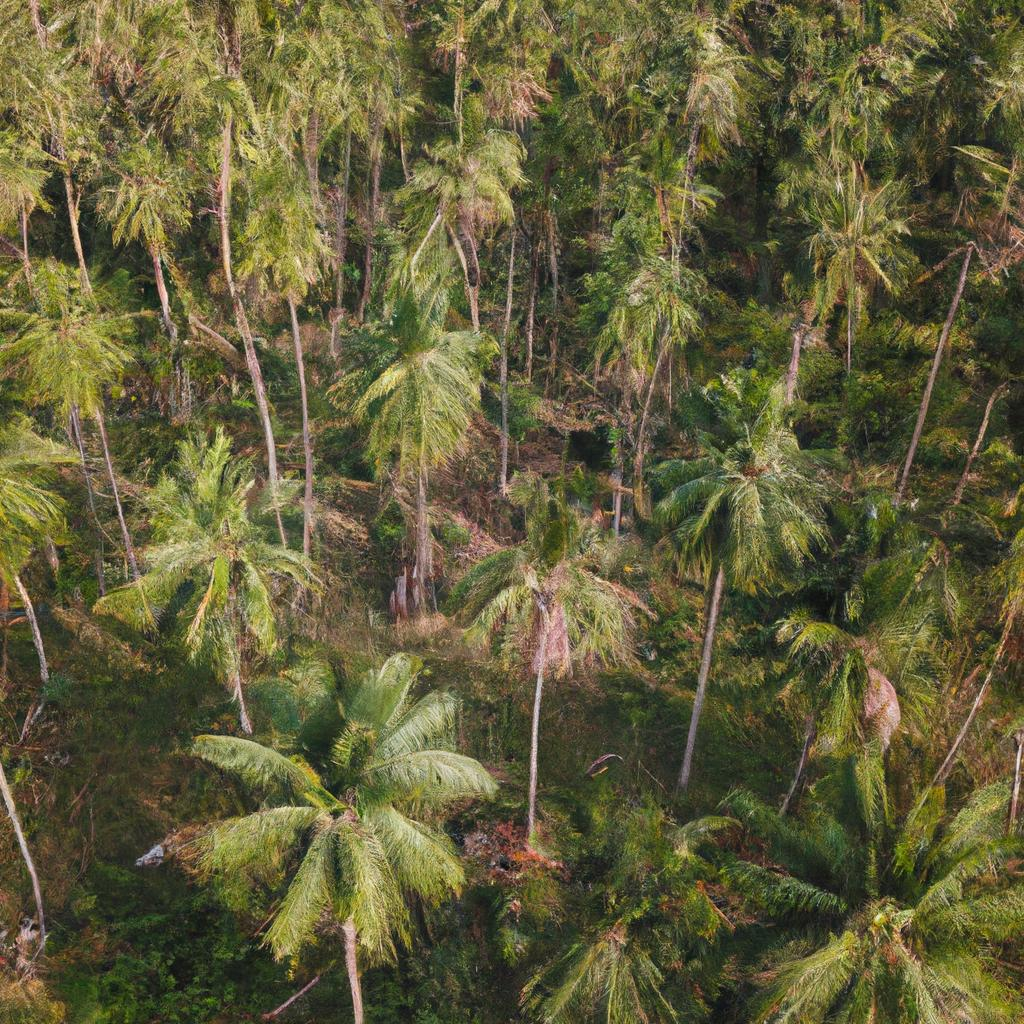coconut_tree: (169, 643, 500, 967), (84, 442, 334, 653), (656, 361, 843, 581), (322, 275, 525, 472)
